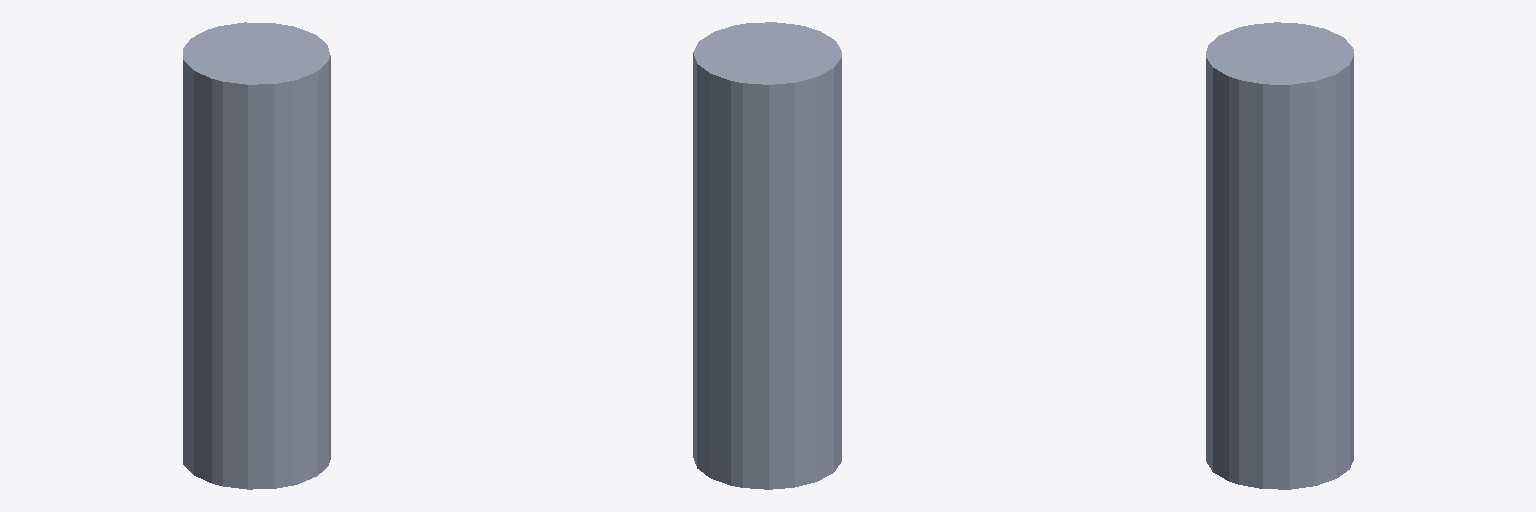
File: Pin2.obj
3 views of the same model, side by side, from view 1: azimuth 30°, elevation 25°; view 2: azimuth 150°, elevation 25°; view 3: azimuth 270°, elevation 25° (orthographic).
Parts seen in each view (by area): view 1: mesh 1 Pin2; view 2: mesh 1 Pin2; view 3: mesh 1 Pin2.
Boxes of the visible parts, <box> form: mesh 1 Pin2: <box>183,22,330,489</box>; mesh 1 Pin2: <box>693,22,841,489</box>; mesh 1 Pin2: <box>1206,22,1353,489</box>.
Size of the model in its own units: 0.005 by 0.015 by 0.005.